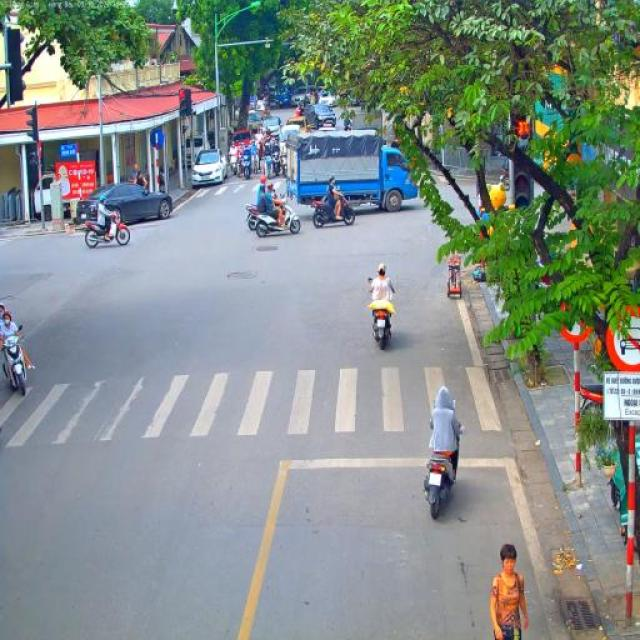car: (75, 180, 174, 226), (192, 148, 228, 187), (304, 102, 337, 130), (280, 124, 300, 160), (285, 116, 311, 136), (260, 116, 280, 140), (292, 86, 312, 109), (234, 129, 254, 143), (317, 92, 333, 108), (255, 100, 270, 116)
motorcycle: (576, 378, 640, 444), (423, 425, 467, 520), (244, 194, 301, 238), (0, 324, 28, 396), (368, 278, 393, 350), (84, 210, 131, 248), (310, 192, 356, 228), (498, 159, 510, 190), (272, 146, 282, 178), (240, 154, 252, 180), (250, 146, 260, 174), (236, 147, 244, 175), (264, 156, 272, 180), (280, 152, 288, 176), (230, 155, 238, 179), (227, 150, 232, 174), (343, 119, 353, 131)
truck: (285, 128, 420, 213), (234, 106, 264, 149), (268, 83, 292, 107)
